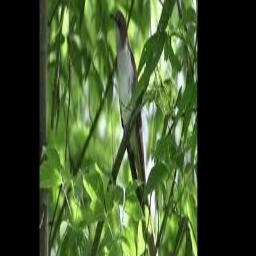Cuckoo: (110, 10, 160, 256)
